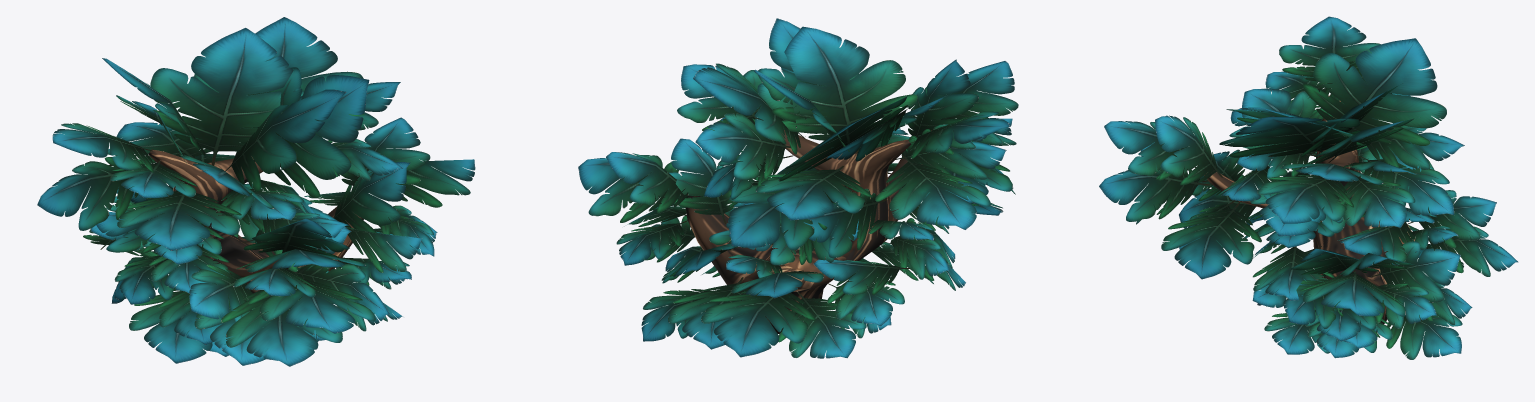
File: buisson_bleu.fbx
The picture shows the model from 3 angles, left to right: view 1: azimuth 30°, elevation 25°; view 2: azimuth 150°, elevation 25°; view 3: azimuth 270°, elevation 25°; orthographic projection. The views are drawn at different scales.
Parts seen in each view (by area): view 1: feuille_bleu, tronc_buisson_bleu; view 2: feuille_bleu, tronc_buisson_bleu; view 3: feuille_bleu, tronc_buisson_bleu.
Boxes of the visible parts, x1,y1,x2,y2 form: feuille_bleu: [37, 17, 475, 366]; tronc_buisson_bleu: [148, 149, 363, 292]; feuille_bleu: [578, 18, 1018, 358]; tronc_buisson_bleu: [685, 130, 931, 333]; feuille_bleu: [1099, 16, 1518, 359]; tronc_buisson_bleu: [1198, 95, 1416, 332].
Bounding box in the file's own units: 50.4 × 31.7 × 49.26.
